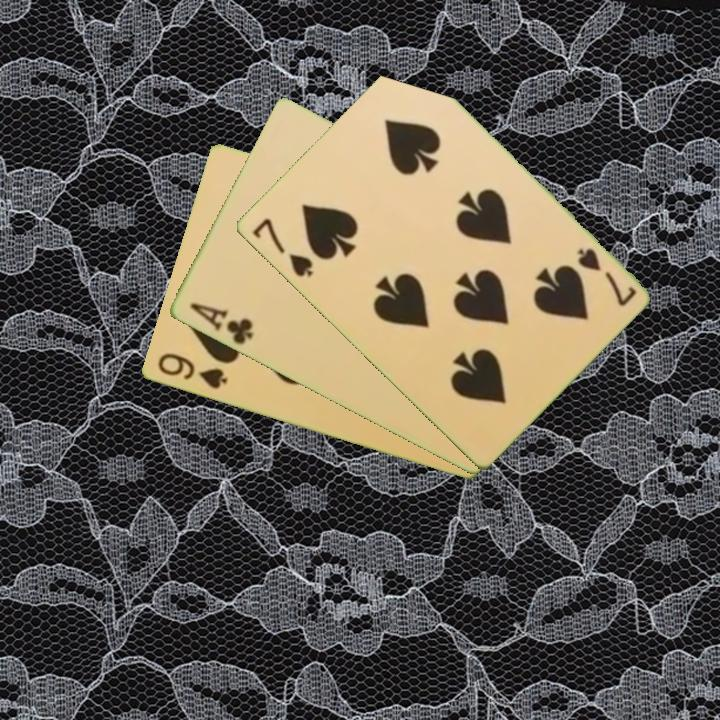7s: (248, 214, 316, 280), (572, 244, 639, 310)
9s: (153, 350, 230, 392)
Ac: (186, 299, 256, 348)
